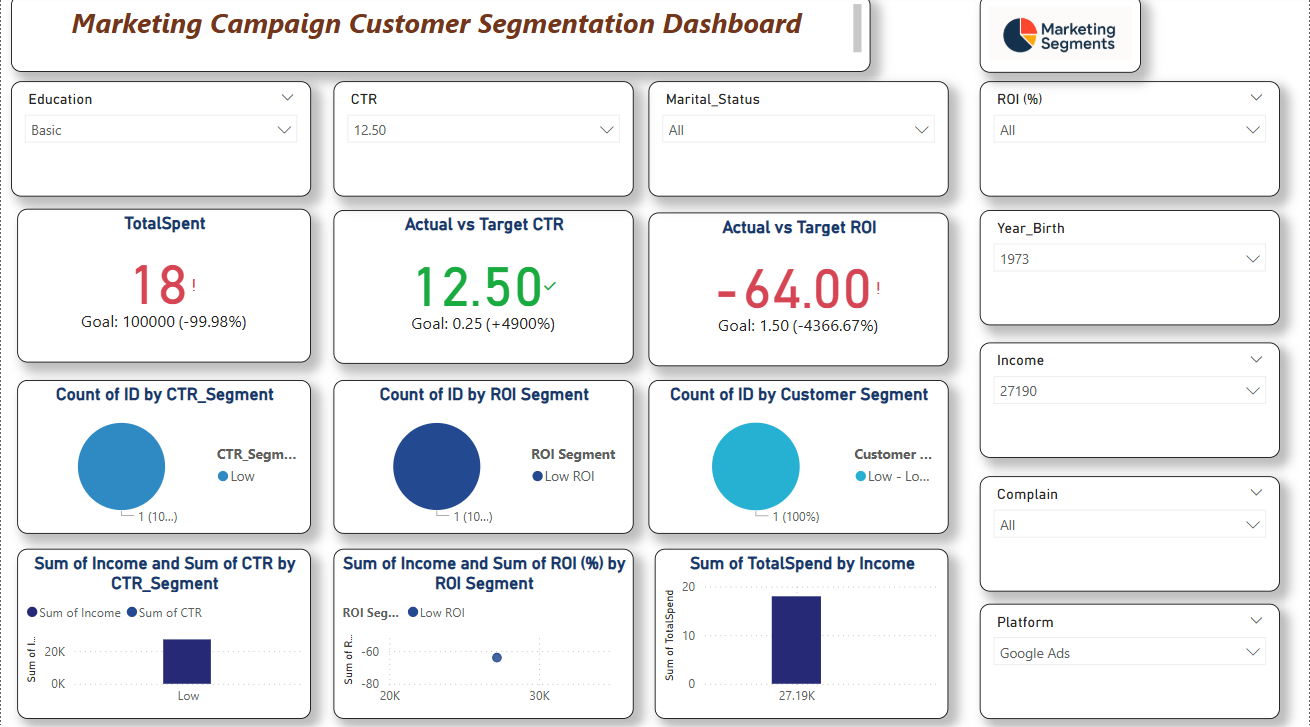

The page's visual inventory and layout, read from the dashboard file:
{"tool":"powerbi","page":{"name":"Page 1","canvas":[1280,720],"ordinal":0},"visuals":[{"type":"textbox","box":[9.6,0,841.2,75.5],"z":0},{"type":"slicer","fields":{"Values":["Sheet1.Education"]},"box":[9.8,84.4,293.5,112.5],"z":1000},{"type":"kpi","title":" TotalSpent ","fields":{"Indicator":["Sum(Sheet1.TotalSpend)"],"TrendLine":["Sheet1.Dt_Customer"],"Goal":["Sheet1.Target Spend"]},"box":[15.9,209.1,287.4,150.4],"z":2000},{"type":"kpi","title":" Actual vs Target CTR","fields":{"TrendLine":["Sheet1.Dt_Customer"],"Goal":["Sheet1.Target CTR"],"Indicator":["Sum(Sheet1.CTR)"]},"box":[325.3,210.3,293.5,150.4],"z":3000},{"type":"kpi","title":" Actual vs Target ROI","fields":{"TrendLine":["Sheet1.Dt_Customer"],"Indicator":["Sum(Sheet1.ROI (%))"],"Goal":["Sheet1.Target ROI"]},"box":[633.4,212.8,293.5,150.4],"z":4000},{"type":"pieChart","fields":{"Category":["Sheet1.CTR_Segment"],"Y":["CountNonNull(Sheet1.ID)"]},"box":[15.9,376.6,287.4,150.4],"z":5000},{"type":"pieChart","fields":{"Y":["CountNonNull(Sheet1.ID)"],"Category":["Sheet1.ROI Segment"]},"box":[325.3,376.6,293.5,150.4],"z":6000},{"type":"pieChart","fields":{"Y":["CountNonNull(Sheet1.ID)"],"Category":["Sheet1.Customer Segment"]},"box":[633.4,376.6,293.5,150.4],"z":7000},{"type":"columnChart","fields":{"Y":["Sum(Sheet1.Income)","Sum(Sheet1.CTR)"],"Category":["Sheet1.CTR_Segment"]},"box":[15.9,541.7,287.4,166.3],"z":8000},{"type":"scatterChart","fields":{"X":["Sum(Sheet1.Income)"],"Y":["Sum(Sheet1.ROI (%))"],"Series":["Sheet1.ROI Segment"]},"box":[325.3,541.7,293.5,166.3],"z":9000},{"type":"clusteredColumnChart","fields":{"Category":["Sheet1.Income"],"Y":["Sum(Sheet1.TotalSpend)"]},"box":[639.5,541.7,287.4,166.3],"z":10000},{"type":"slicer","fields":{"Values":["Sheet1.ROI (%)"]},"box":[957.5,84.4,293.5,112.5],"z":11000},{"type":"slicer","fields":{"Values":["Sheet1.Marital_Status"]},"box":[633.4,84.4,293.5,112.5],"z":12000},{"type":"slicer","fields":{"Values":["Sheet1.CTR"]},"box":[325.3,84.4,293.5,112.5],"z":13000},{"type":"slicer","fields":{"Values":["Sheet1.Year_Birth"]},"box":[957.5,210.3,293.5,112.5],"z":14000},{"type":"slicer","fields":{"Values":["Sheet1.Income"]},"box":[957.5,339.9,293.5,112.5],"z":15000},{"type":"slicer","fields":{"Values":["Sheet1.Complain"]},"box":[957.5,470.8,293.5,112.5],"z":16000},{"type":"slicer","fields":{"Values":["Sheet1 (2).Platform"]},"box":[957.5,595.5,293.5,112.5],"z":17000},{"type":"image","box":[957.5,0,157.7,75.8],"z":17001},{"type":"tableEx","box":[100,100,300,300],"z":17002}]}

Visuals, with their boxes in screenshot pixels (x1, y1, x2, y2), scaled from the page's 1280x720 canvas onto the 1310x727 screenshot:
textbox: (left=10, top=0, right=871, bottom=76)
slicer - Sheet1.Education: (left=10, top=85, right=310, bottom=199)
" TotalSpent " kpi: (left=16, top=211, right=310, bottom=363)
" Actual vs Target CTR" kpi: (left=333, top=212, right=633, bottom=364)
" Actual vs Target ROI" kpi: (left=648, top=215, right=949, bottom=367)
pieChart - Sheet1.CTR_Segment x CountNonNull(Sheet1.ID): (left=16, top=380, right=310, bottom=532)
pieChart - CountNonNull(Sheet1.ID) x Sheet1.ROI Segment: (left=333, top=380, right=633, bottom=532)
pieChart - CountNonNull(Sheet1.ID) x Sheet1.Customer Segment: (left=648, top=380, right=949, bottom=532)
columnChart - Sum(Sheet1.Income) x Sum(Sheet1.CTR): (left=16, top=547, right=310, bottom=715)
scatterChart - Sum(Sheet1.Income) x Sum(Sheet1.ROI (%)): (left=333, top=547, right=633, bottom=715)
clusteredColumnChart - Sheet1.Income x Sum(Sheet1.TotalSpend): (left=654, top=547, right=949, bottom=715)
slicer - Sheet1.ROI (%): (left=980, top=85, right=1280, bottom=199)
slicer - Sheet1.Marital_Status: (left=648, top=85, right=949, bottom=199)
slicer - Sheet1.CTR: (left=333, top=85, right=633, bottom=199)
slicer - Sheet1.Year_Birth: (left=980, top=212, right=1280, bottom=326)
slicer - Sheet1.Income: (left=980, top=343, right=1280, bottom=457)
slicer - Sheet1.Complain: (left=980, top=475, right=1280, bottom=589)
slicer - Sheet1 (2).Platform: (left=980, top=601, right=1280, bottom=715)
image: (left=980, top=0, right=1141, bottom=77)
tableEx: (left=102, top=101, right=409, bottom=404)
